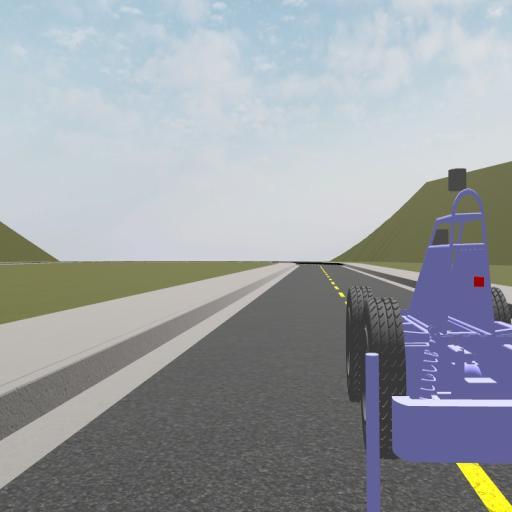ERP-42: (343, 181, 512, 462)
